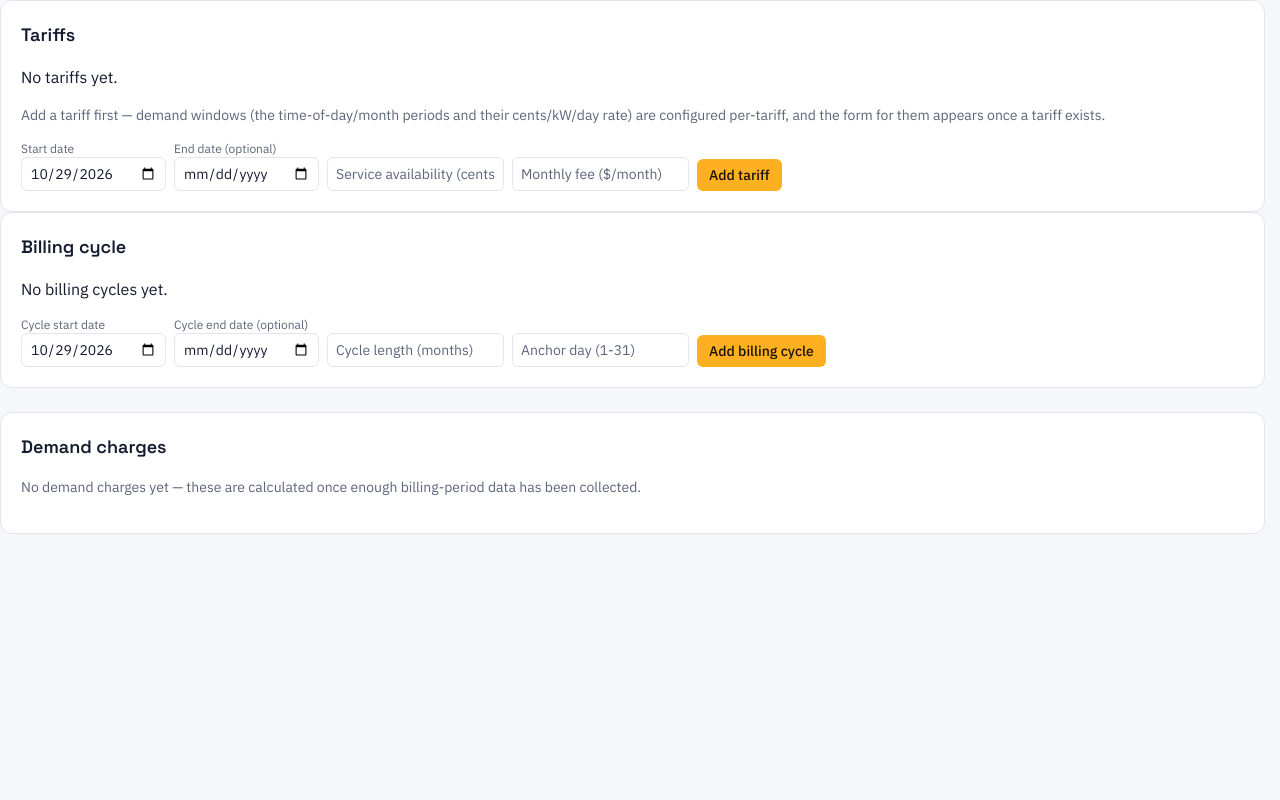
Scenario: Billing tabs › shows an error when creating a tariff fails
The width and height of the screenshot is (1280, 800).
Expected: the text "No tariffs yet." is shown, [21,67,118,87]
Type "95" into the field with placeholder "Service availability (cents/day)".
click(416, 174); type("95")  # box [327,157,504,191]
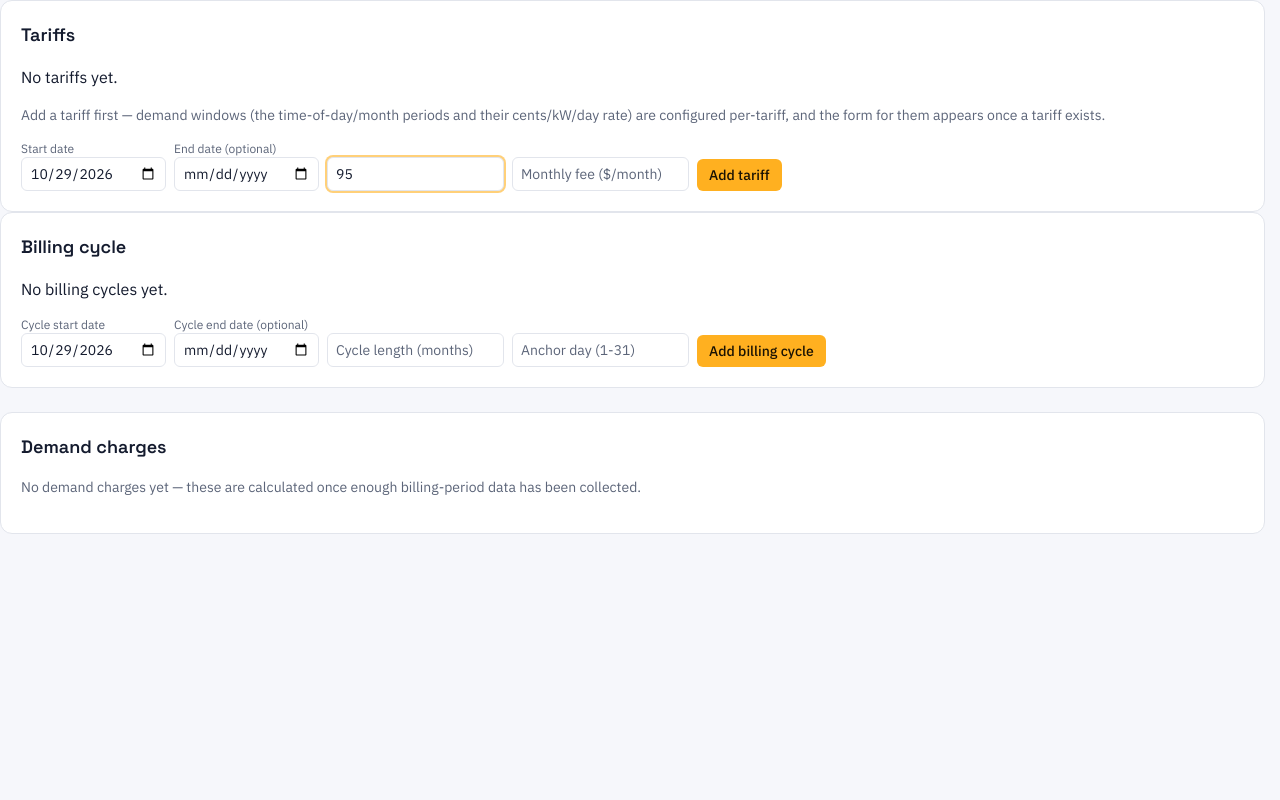
Click the button "Add tariff".
click(739, 175)  # box [697,159,782,191]
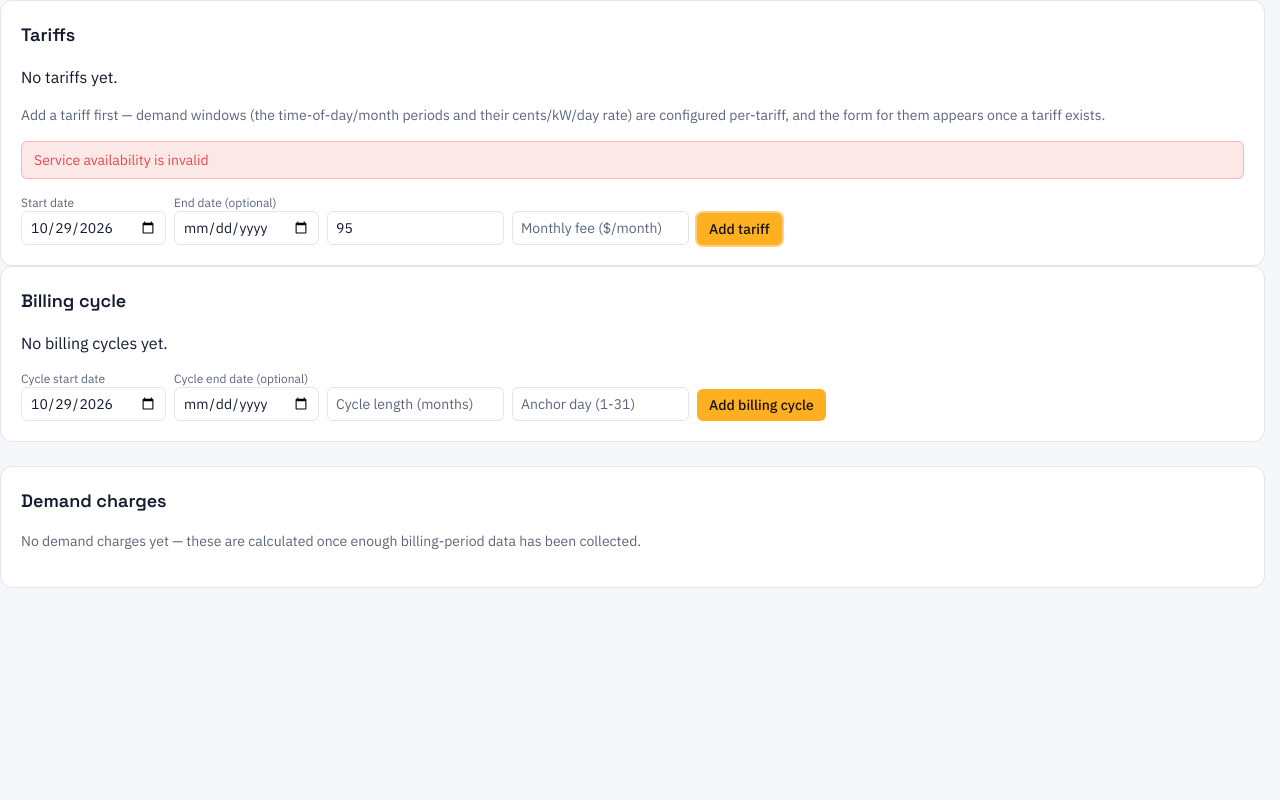
Now the message reads "Service availability is invalid", box [34,151,209,169]
